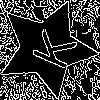K: (21, 23, 78, 72)
